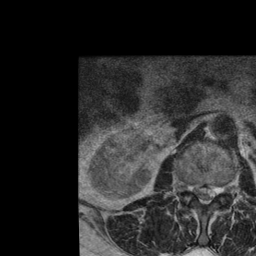CCS_normal: (201, 178, 208, 212)
LFS_normal: (216, 177, 226, 202)
LLS_normal: (208, 178, 216, 210)
RFS_stenosis: (184, 174, 193, 200)
RLS_normal: (193, 176, 201, 205)
